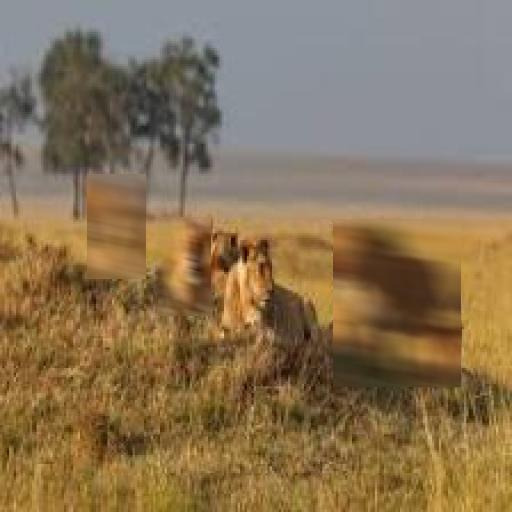lion: (334, 220, 462, 388), (87, 174, 146, 279), (158, 217, 211, 316)
